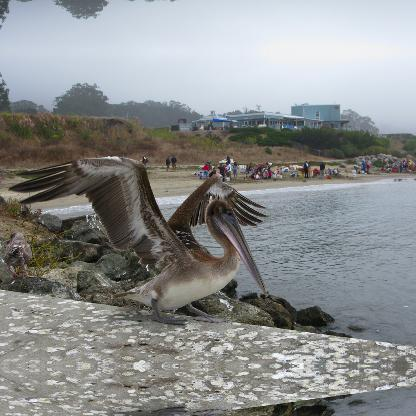Bird: (5, 152, 273, 326), (2, 228, 46, 274)
